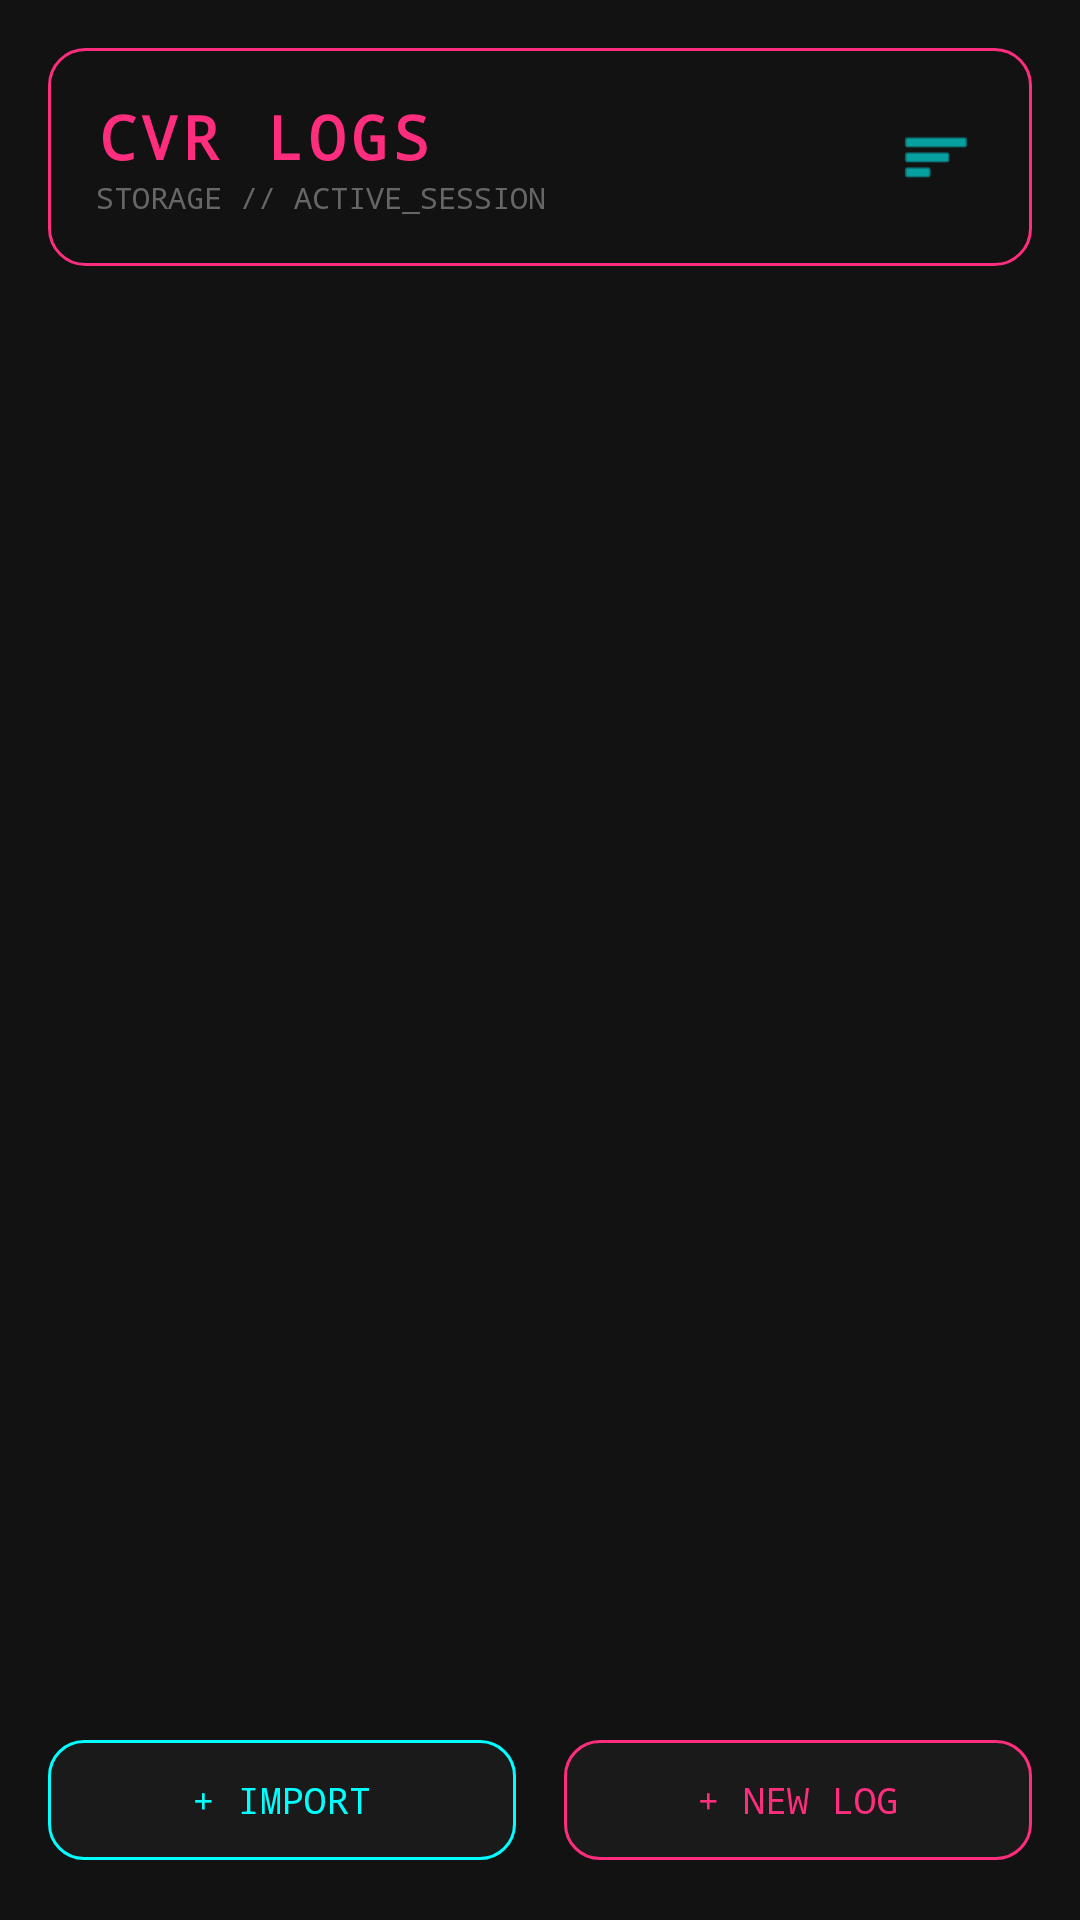

Locate icon controls on the screen. Image size 1080 × 1920, boxes as region(x1, y1, x2, y2).
sort by size: region(905, 137, 967, 178)
